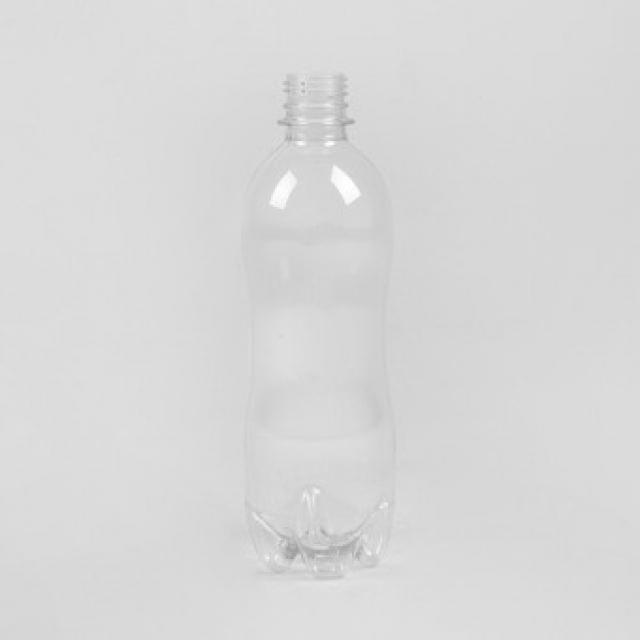bottle: (241, 70, 388, 571)
